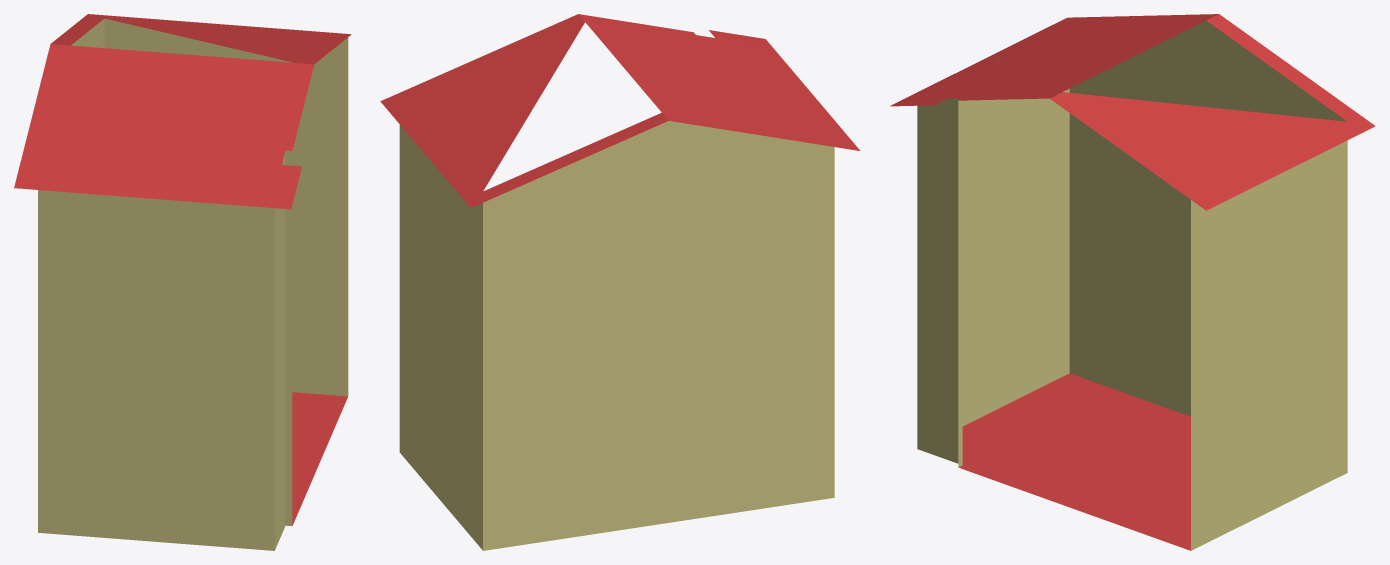
3 renders of one model, left to right at view 1: azimuth 30°, elevation 25°; view 2: azimuth 150°, elevation 25°; view 3: azimuth 270°, elevation 25°, orthographic. The views are drawn at different scales.
Size of the model in its own units: 11.5 by 12.12 by 11.04.
